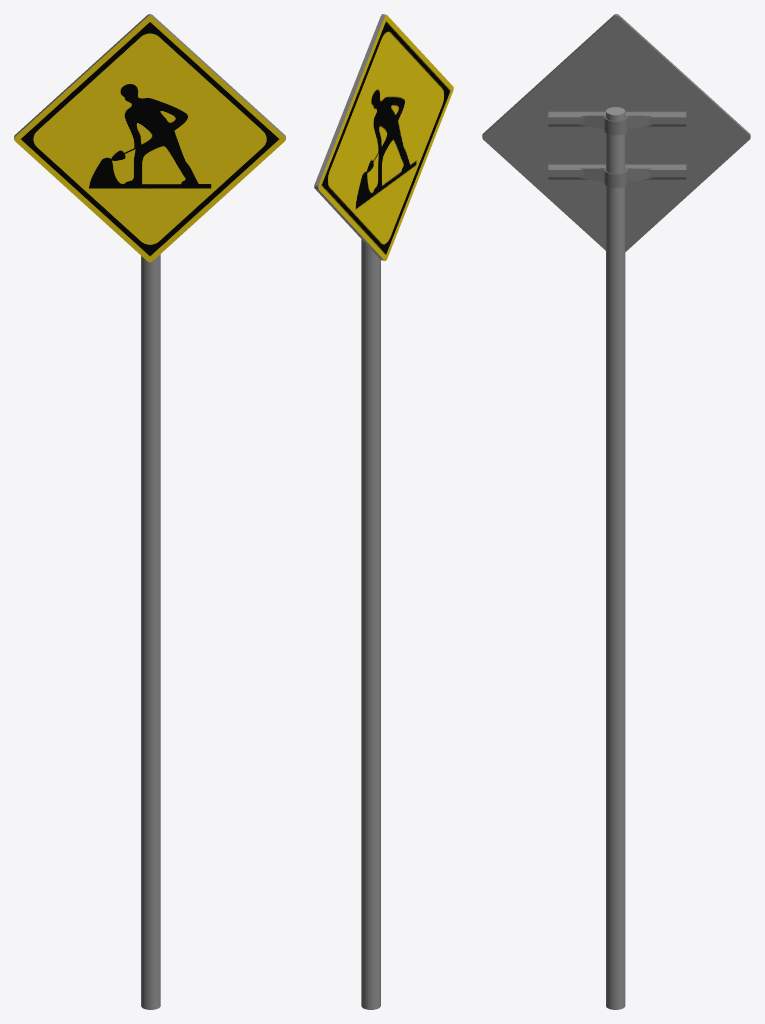
The picture shows the model from 3 angles, left to right: view 1: azimuth 90°, elevation 25°; view 2: azimuth 150°, elevation 25°; view 3: azimuth 270°, elevation 25°; orthographic projection.
Parts seen in each view (by area): view 1: 008, Prop; view 2: 008, Prop; view 3: 008, Prop.
Boxes of the visible parts, left/top/right/bottom form: 008: left=14, top=14, right=285, bottom=262; Prop: left=141, top=254, right=160, bottom=1009; 008: left=314, top=14, right=453, bottom=260; Prop: left=361, top=239, right=380, bottom=1009; 008: left=482, top=14, right=750, bottom=251; Prop: left=548, top=107, right=686, bottom=1009.
Size of the model in its own units: 6.76 by 259 by 63.95.
